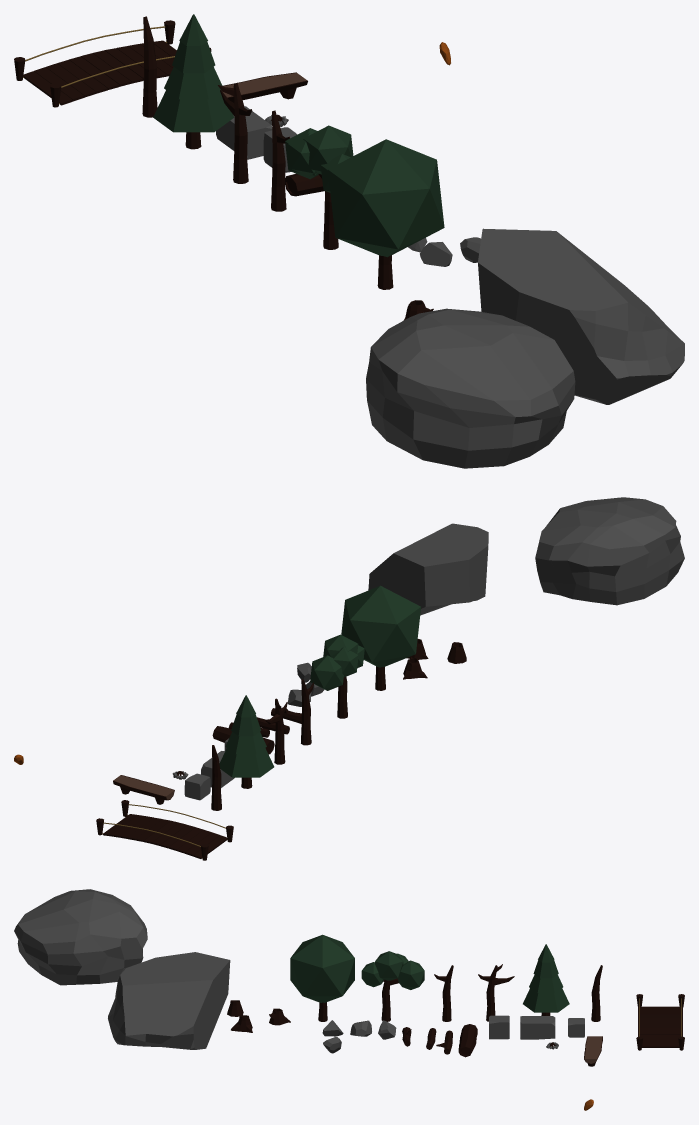
File: darkForestAssetblend.fbx
3 renders of one model, top to bottom at view 1: azimuth 30°, elevation 25°; view 2: azimuth 150°, elevation 25°; view 3: azimuth 270°, elevation 25°, orthographic. The views are drawn at different scales.
Visible parts, largest first — view 1: GiantRock002, GiantRock001, Tree001_Leaf, Tree003_Leaf, BridgeWoodenPlanks, TreeTrunk002, Tree002Leaf002, TreeBench001, Cubicrock002, TreeTrunk001, TreeTrunk003, Tree002Leaf004 (+2 smaller); view 2: GiantRock002, GiantRock001, Tree001_Leaf, BridgeWoodenPlanks, Tree003_Leaf, Tree002Leaf003, TreeBench001, TreeTrunk002, TreeTrunk001, Cubicrock003, TreeTrunk003; view 3: GiantRock002, GiantRock001, Tree001_Leaf, Tree003_Leaf, BridgeWoodenPlanks, Cubicrock002, Tree002Leaf002, Tree002Leaf003, TreeTrunk002, Cubicrock001, Cylinder.006, TreeTrunk001 (+4 smaller).
Boxes of the visible parts, bbox=[...] form: GiantRock002: bbox=[366, 308, 575, 468]; GiantRock001: bbox=[478, 228, 684, 404]; Tree001_Leaf: bbox=[328, 139, 444, 257]; Tree003_Leaf: bbox=[153, 14, 234, 132]; BridgeWoodenPlanks: bbox=[23, 40, 176, 105]; TreeTrunk002: bbox=[218, 82, 252, 183]; Tree002Leaf002: bbox=[303, 125, 353, 174]; TreeBench001: bbox=[222, 72, 307, 102]; Cubicrock002: bbox=[216, 106, 272, 159]; TreeTrunk001: bbox=[271, 110, 289, 211]; TreeTrunk003: bbox=[142, 16, 157, 117]; Tree002Leaf004: bbox=[288, 133, 316, 176]; GiantRock002: bbox=[535, 497, 684, 605]; GiantRock001: bbox=[368, 523, 488, 615]; Tree001_Leaf: bbox=[341, 585, 420, 667]; BridgeWoodenPlanks: bbox=[103, 814, 227, 858]; Tree003_Leaf: bbox=[219, 695, 274, 777]; Tree002Leaf003: bbox=[310, 655, 343, 690]; TreeBench001: bbox=[113, 775, 174, 804]; TreeTrunk002: bbox=[265, 698, 287, 764]; TreeTrunk001: bbox=[301, 679, 313, 745]; Cubicrock003: bbox=[184, 773, 210, 800]; TreeTrunk003: bbox=[211, 745, 221, 810]; GiantRock002: bbox=[14, 889, 147, 985]; GiantRock001: bbox=[108, 952, 230, 1049]; Tree001_Leaf: bbox=[290, 934, 354, 1002]; Tree003_Leaf: bbox=[523, 944, 569, 1012]; BridgeWoodenPlanks: bbox=[638, 1006, 682, 1047]; Cubicrock002: bbox=[520, 1016, 555, 1039]; Tree002Leaf002: bbox=[375, 951, 403, 980]; Tree002Leaf003: bbox=[397, 960, 424, 989]; TreeTrunk002: bbox=[478, 964, 514, 1021]; Cubicrock001: bbox=[489, 1015, 509, 1039]; Cylinder.006: bbox=[458, 1024, 477, 1057]; TreeTrunk001: bbox=[434, 965, 453, 1021].
Size of the model in its own units: 1765 by 542 by 3509.
